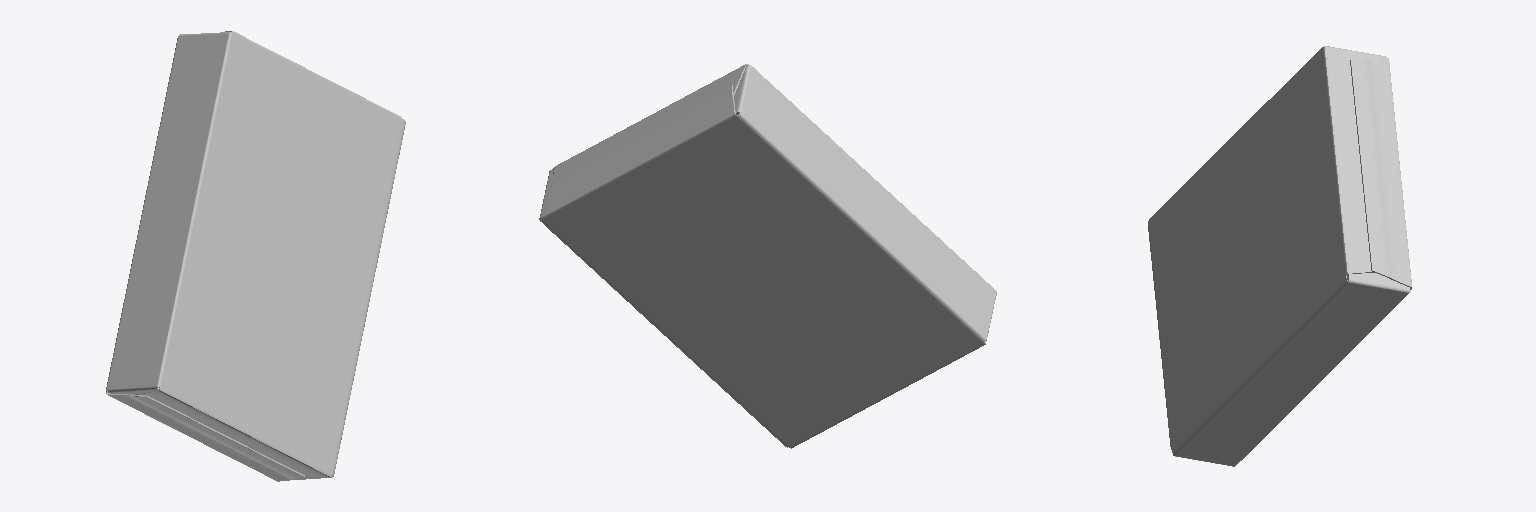
The model's file is box_of_cereal_xyz_2.obj.
3 views of the same model, side by side, from view 1: azimuth 30°, elevation 25°; view 2: azimuth 150°, elevation 25°; view 3: azimuth 270°, elevation 25° (orthographic).
Visible parts, largest first — view 1: Box_Box_Box_Box_of_cerealCOL_jpg.001; view 2: Box_Box_Box_Box_of_cerealCOL_jpg.001; view 3: Box_Box_Box_Box_of_cerealCOL_jpg.001.
Part boxes in pixels (left/top/right/bottom): Box_Box_Box_Box_of_cerealCOL_jpg.001: left=106, top=31, right=405, bottom=481; Box_Box_Box_Box_of_cerealCOL_jpg.001: left=539, top=64, right=996, bottom=448; Box_Box_Box_Box_of_cerealCOL_jpg.001: left=1148, top=46, right=1411, bottom=466.
Size of the model in its own units: 0.28 by 0.3036 by 0.1744.